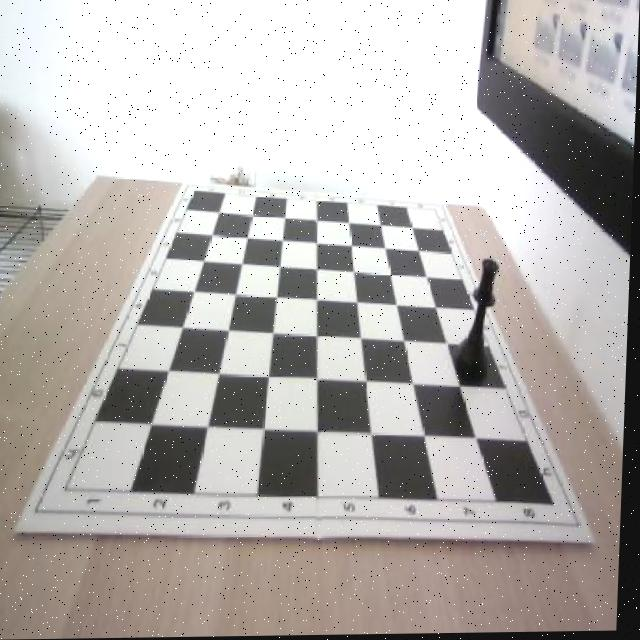black-pawn: (455, 259, 504, 385)
